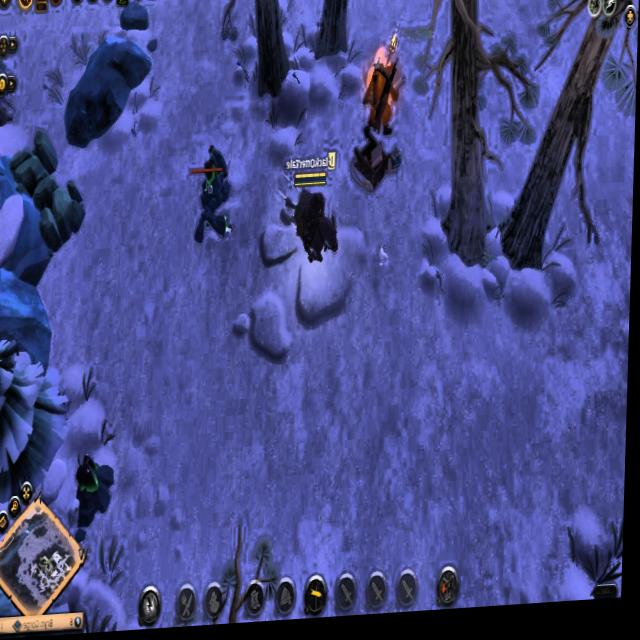sandstone: (37, 177, 87, 261), (9, 127, 59, 207)
tinore: (75, 451, 119, 529)
